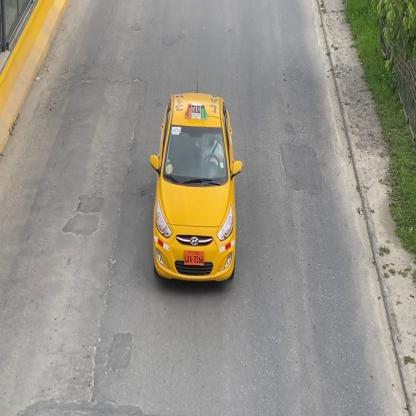Placa: (183, 251, 205, 268)
